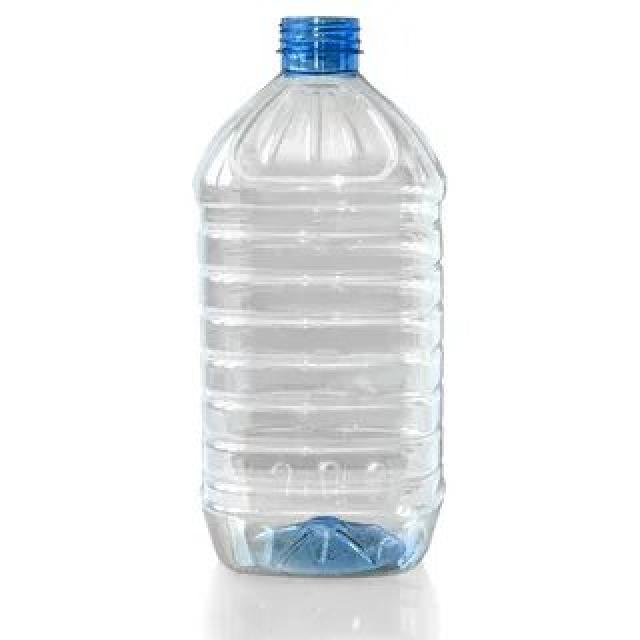blue: (193, 13, 445, 580)
